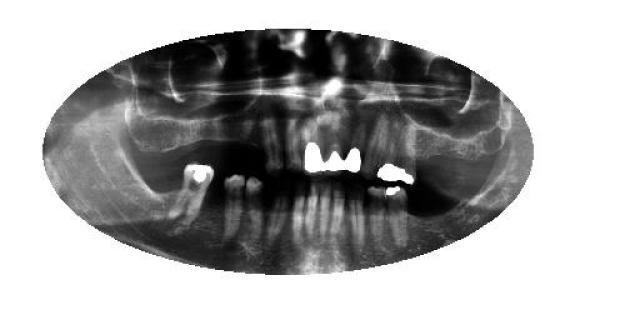Fillings: (170, 163, 215, 225), (378, 121, 418, 185), (385, 186, 409, 248), (302, 114, 324, 176), (345, 116, 369, 172), (325, 115, 345, 176)
